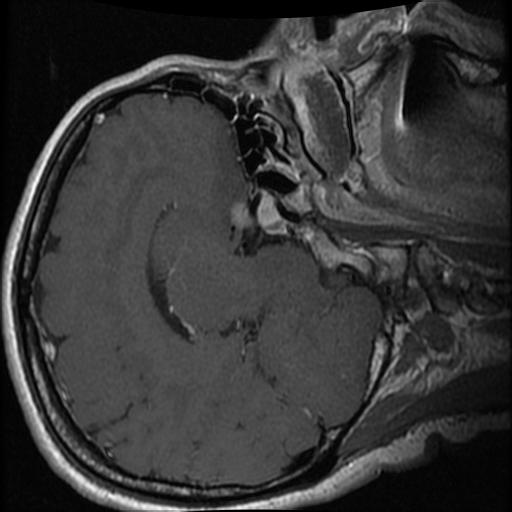pituitary tumour: (256, 190, 286, 236)
